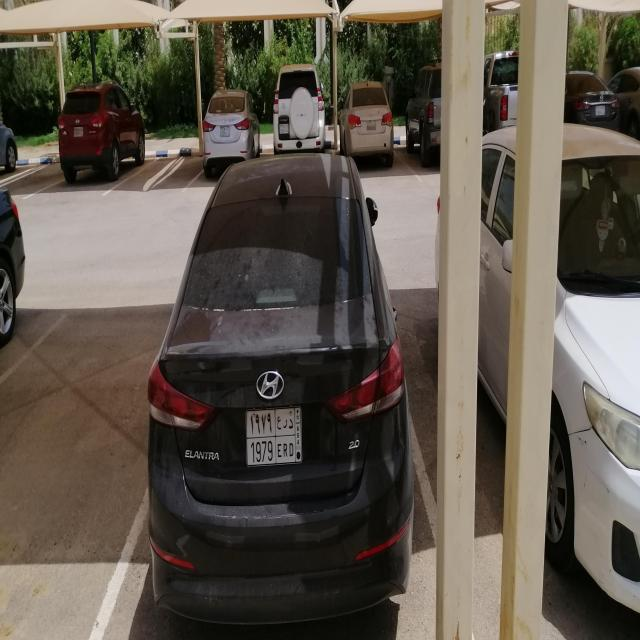license_plate: (245, 406, 301, 466), (220, 125, 230, 136), (74, 126, 83, 138), (279, 124, 289, 134), (367, 120, 376, 131)
